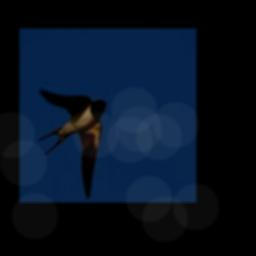Swallow: (37, 89, 106, 199)
